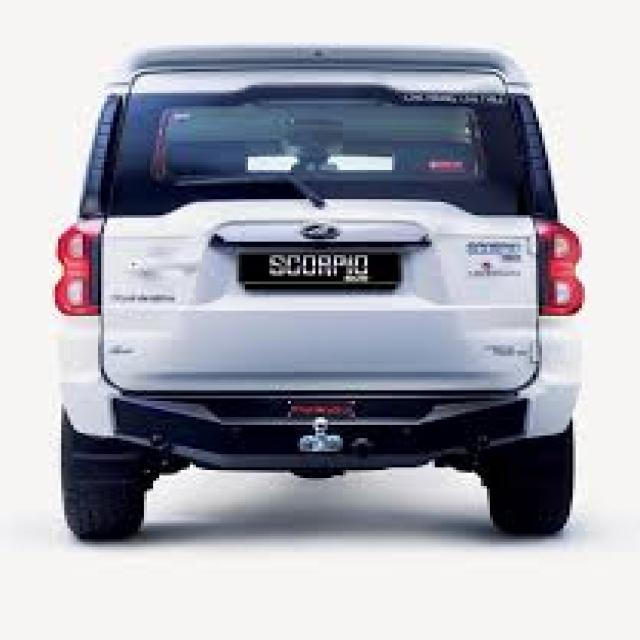Car: (55, 49, 582, 539)
